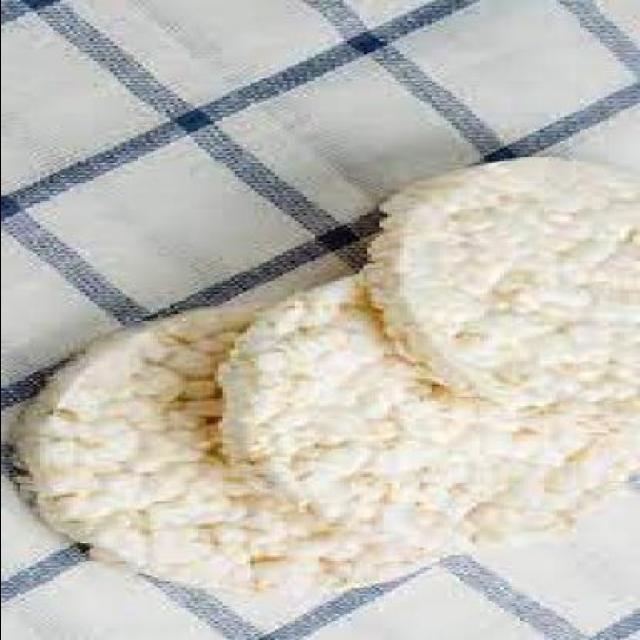Gallette di riso packaged: (217, 258, 628, 556), (378, 158, 632, 424)
